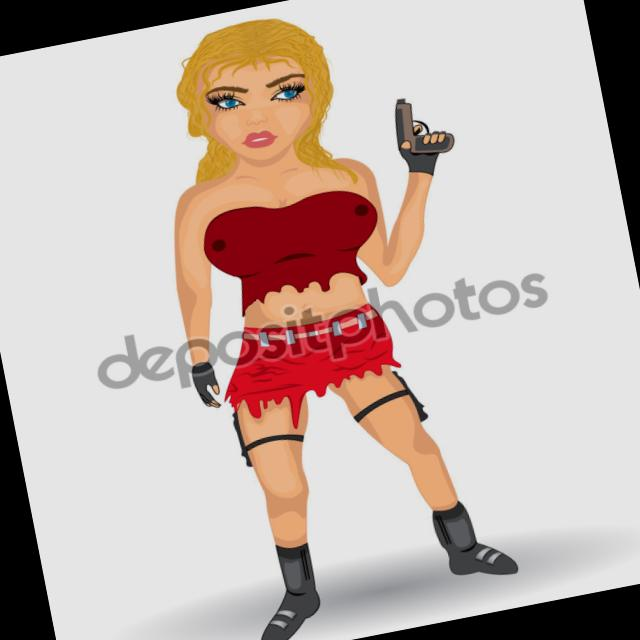handgun: (386, 86, 456, 162)
